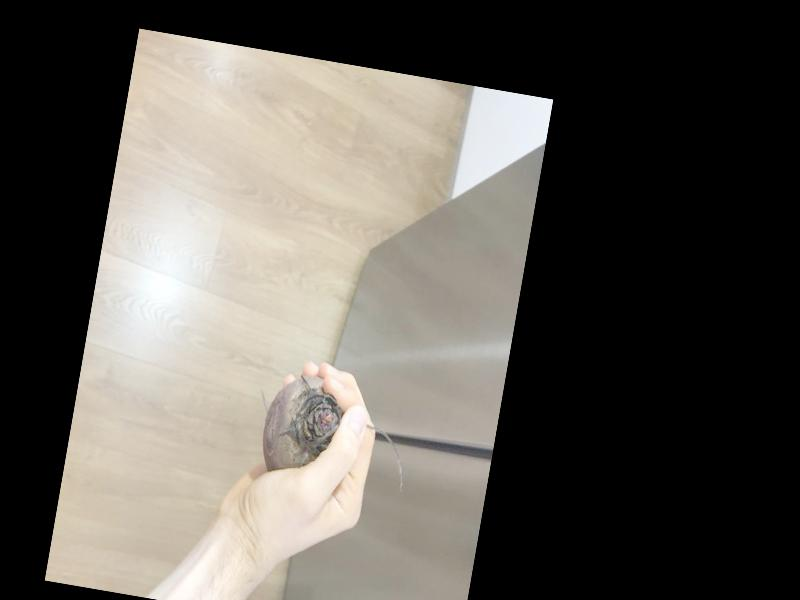Beet: (257, 368, 419, 494)
